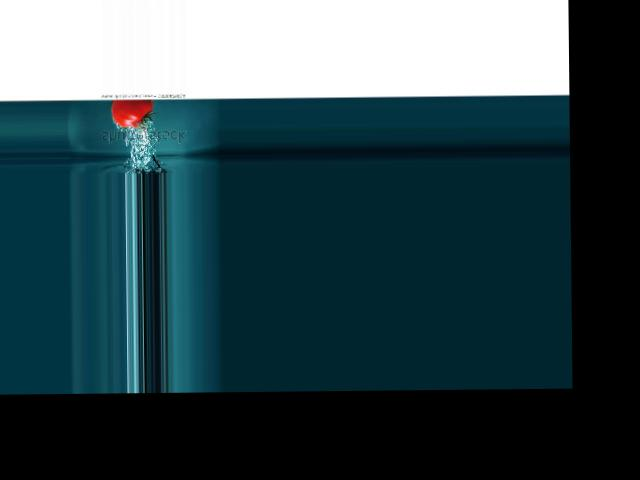tomato: (112, 99, 154, 127)
